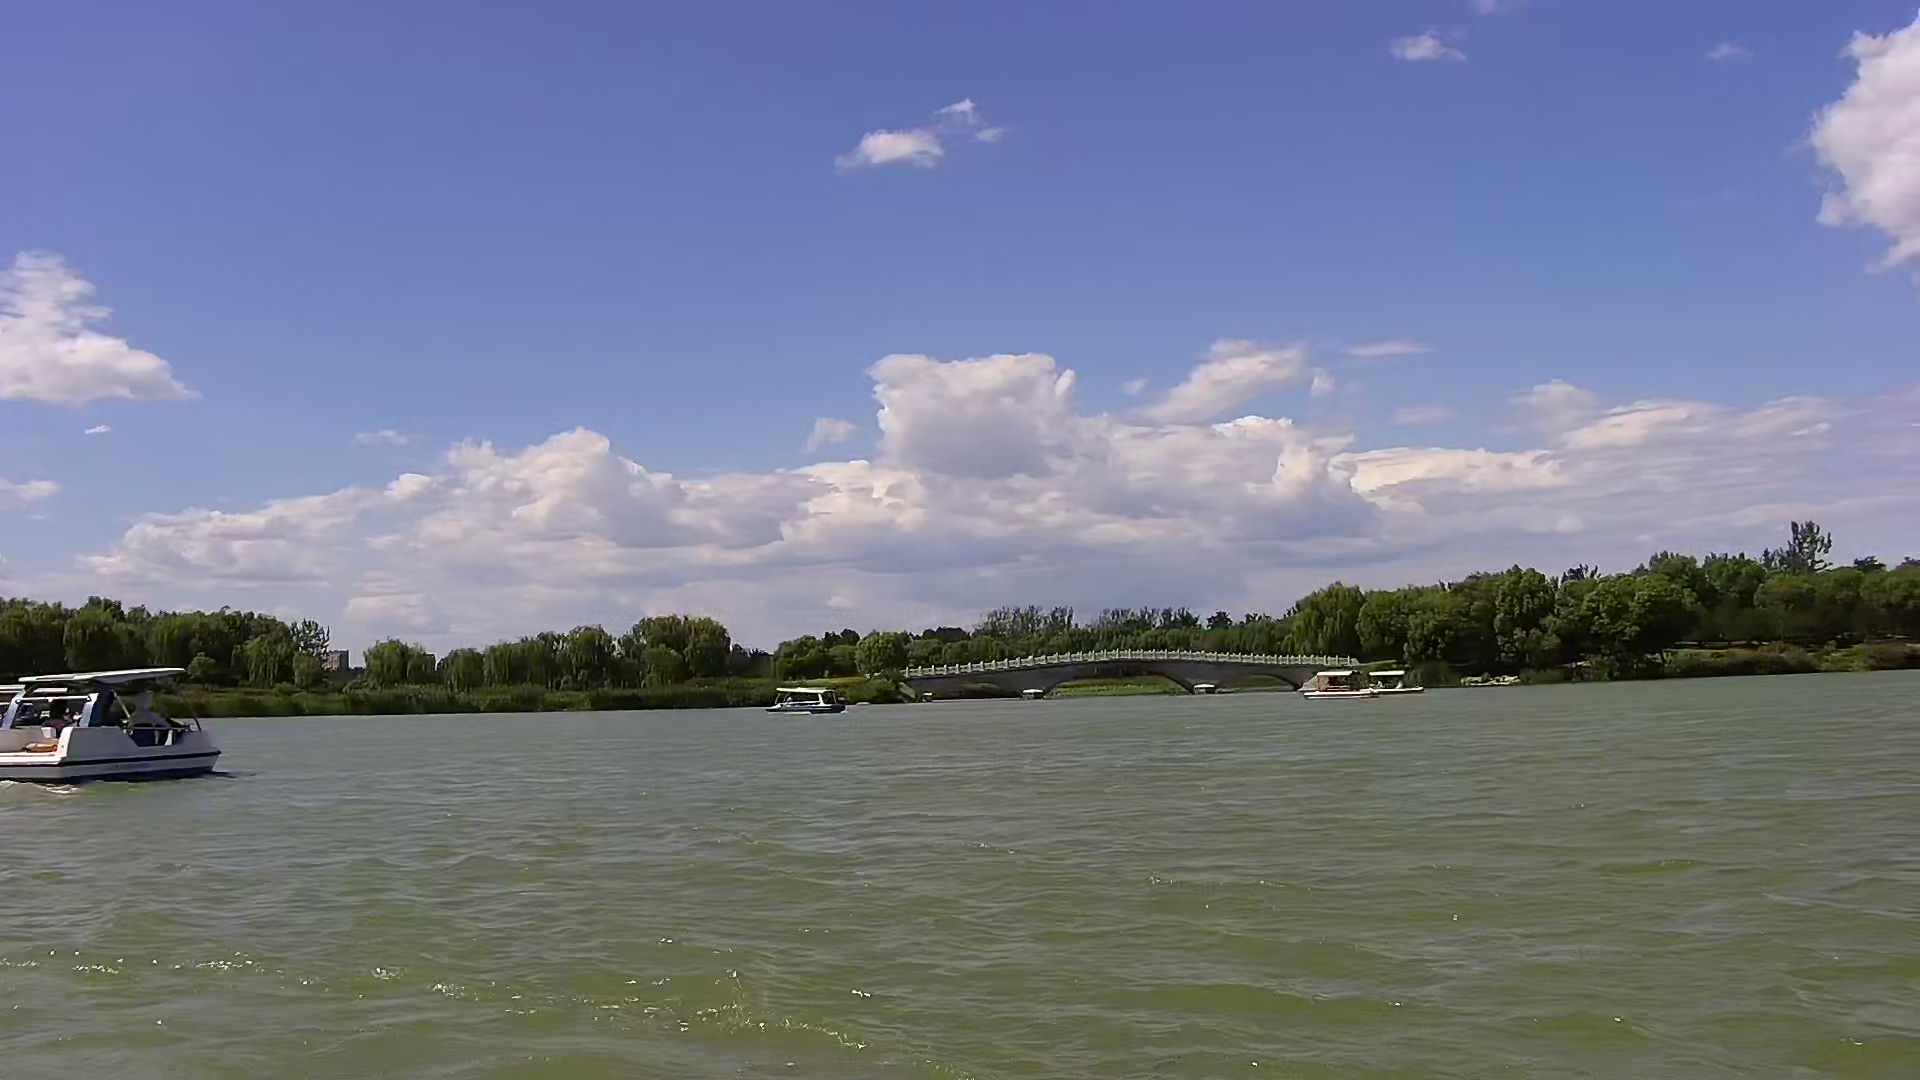boat: (3, 659, 240, 796), (1294, 659, 1367, 704), (764, 678, 845, 717), (1375, 658, 1427, 700)
bridge: (897, 641, 1317, 702)
